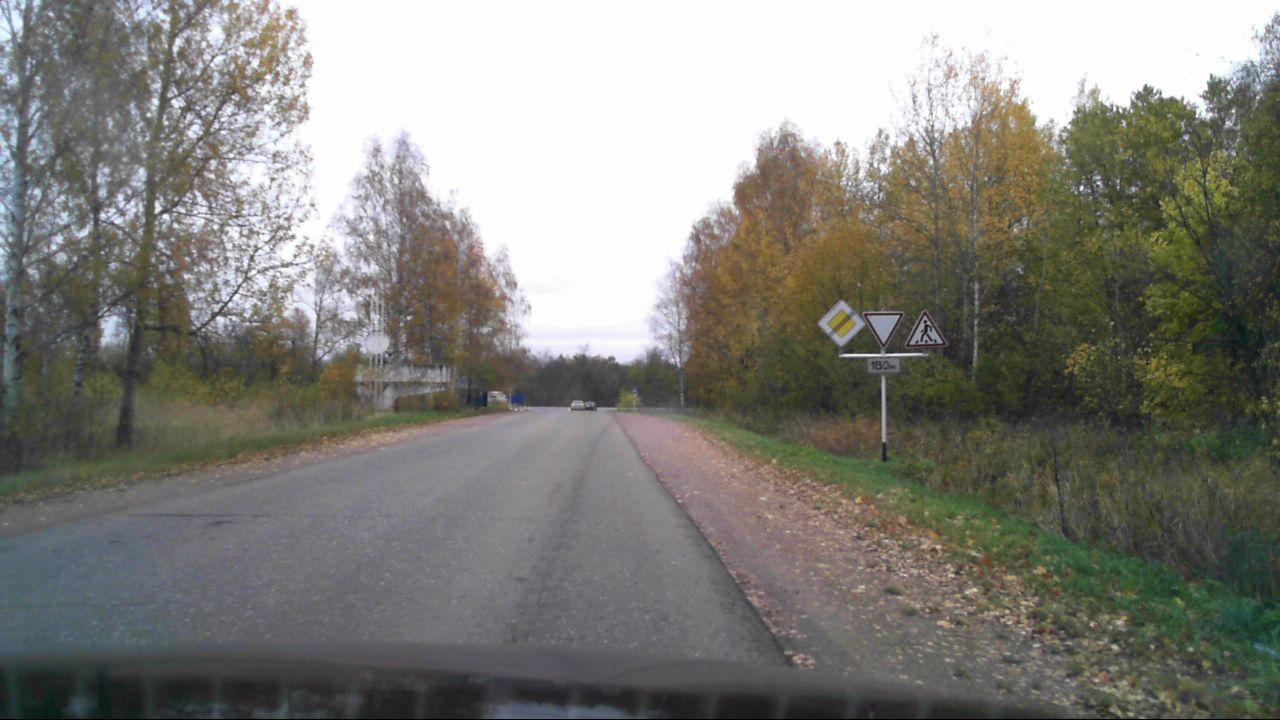1_22: (906, 308, 947, 348)
2_2: (817, 298, 866, 349)
2_4: (862, 310, 903, 351)
8_1_1: (867, 357, 900, 373)
